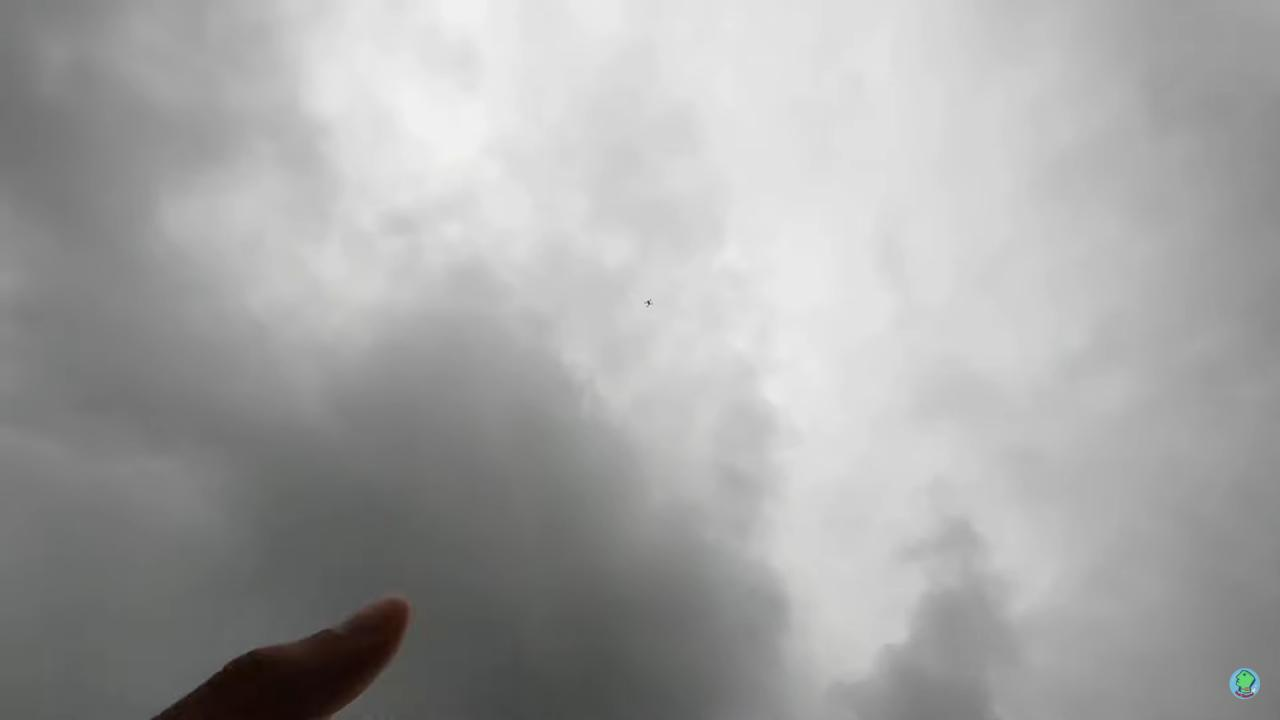Drone: (637, 292, 659, 314)
